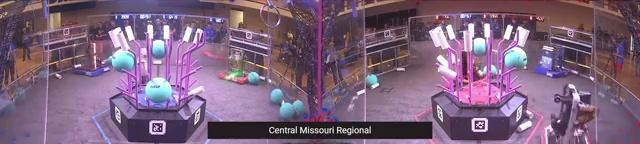reef: (428, 24, 528, 141), (109, 22, 204, 144)
robot: (540, 82, 592, 144), (219, 45, 251, 85), (75, 42, 110, 78), (535, 42, 568, 79)
